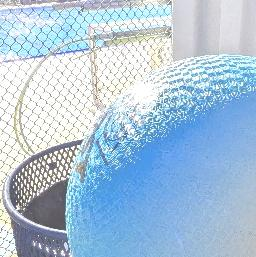algae: (69, 57, 256, 257)
